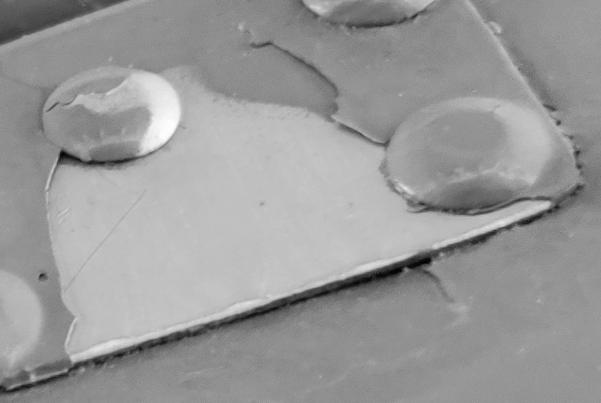paint-off: (1, 1, 601, 403)
